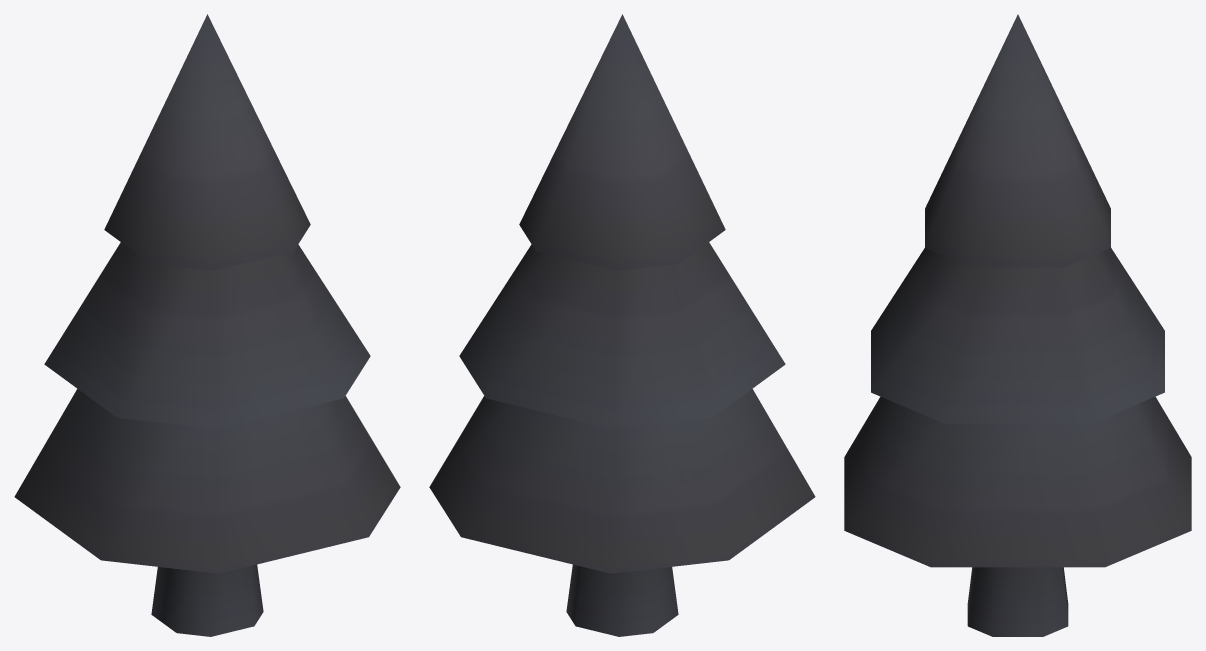
The model's file is kenney-marble-tree.glb.
3 views of the same model, side by side, from view 1: azimuth 30°, elevation 25°; view 2: azimuth 150°, elevation 25°; view 3: azimuth 270°, elevation 25° (orthographic).
Visible parts, largest first — view 1: tree; view 2: tree; view 3: tree.
Boxes of the visible parts, box(x1,y1,x2,y2) form: tree: box(14, 14, 400, 636); tree: box(429, 14, 815, 636); tree: box(844, 14, 1191, 636).
Size of the model in its own units: 0.75 by 1.43 by 0.75.
1 material, 1 textured.
